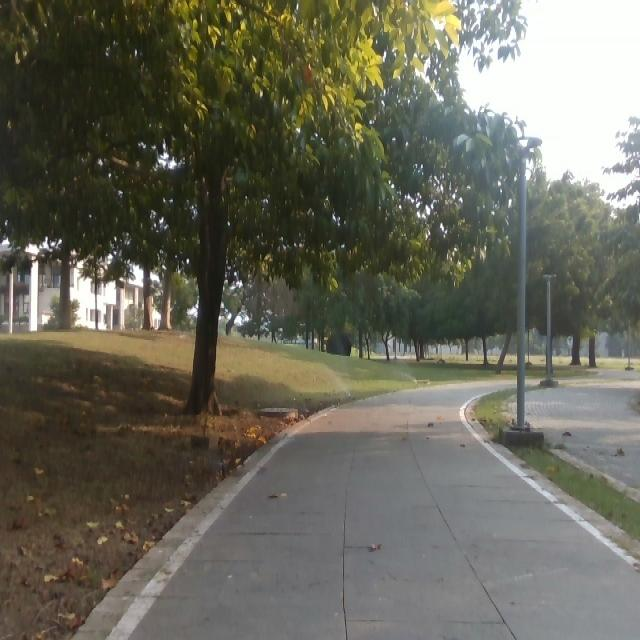lane: (127, 381, 640, 640)
